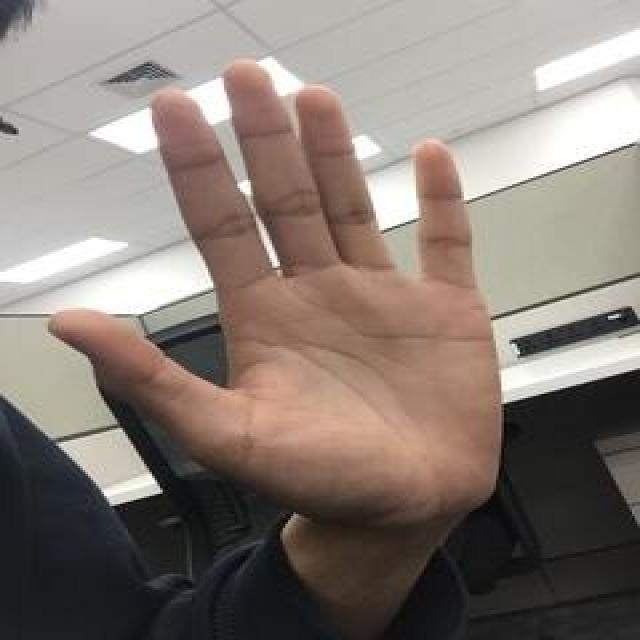hand: (48, 60, 499, 510)
